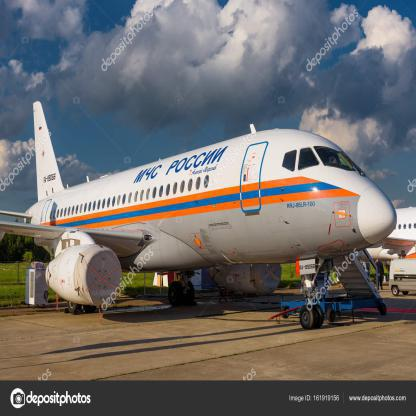CIV_Plane: (4, 91, 400, 322)
